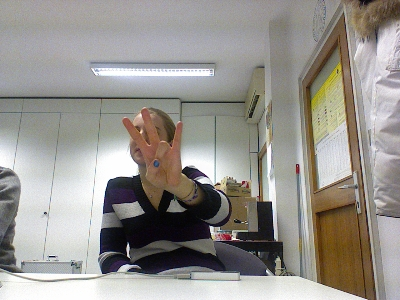观音: (121, 106, 183, 191)
